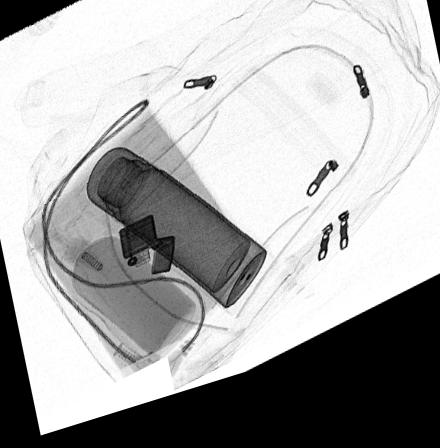Lighter: (117, 222, 174, 283)
